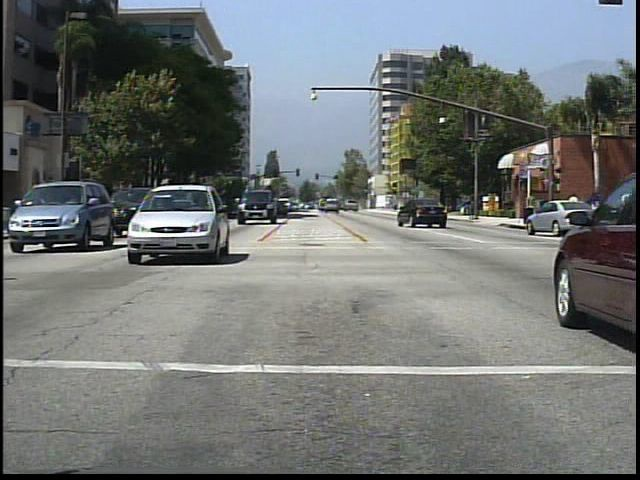person: (567, 190, 588, 235), (522, 191, 539, 230)
